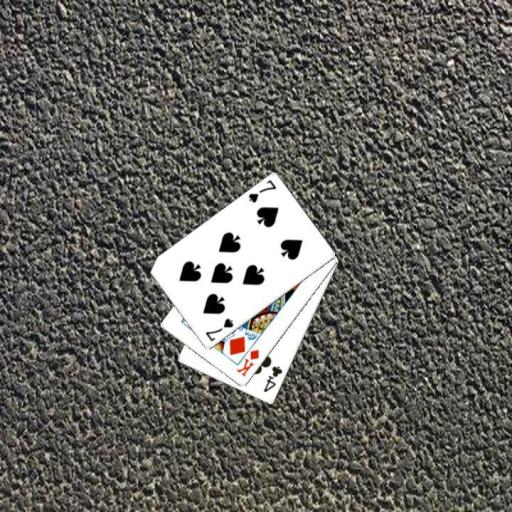4C: (260, 363, 284, 394)
7S: (202, 315, 235, 343), (245, 177, 278, 205)
KD: (233, 347, 261, 379)
